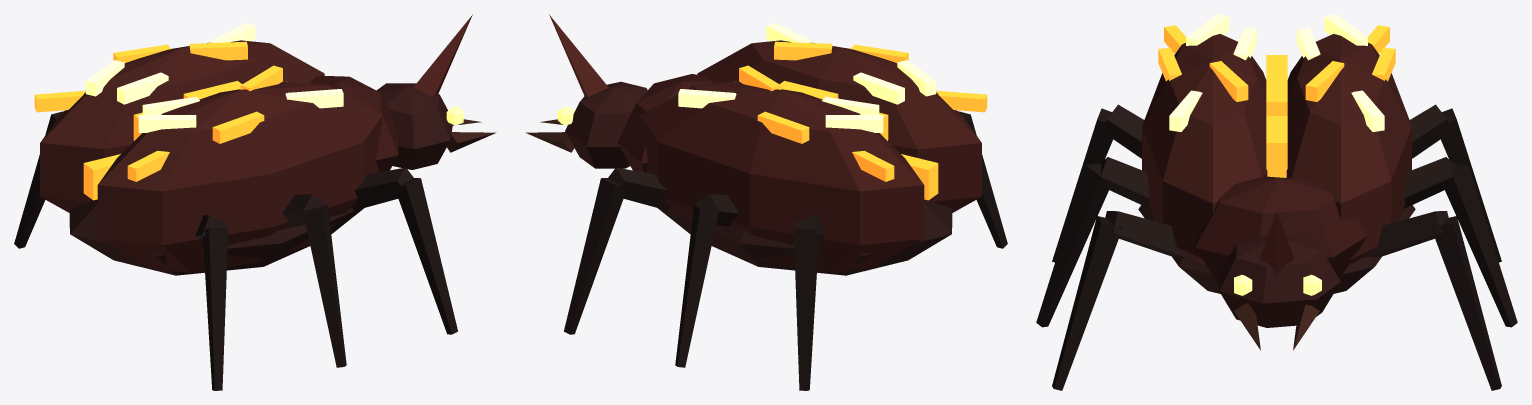
File: fire_beetle.glb
3 views of the same model, side by side, from view 1: azimuth 30°, elevation 25°; view 2: azimuth 150°, elevation 25°; view 3: azimuth 270°, elevation 25° (orthographic). The views are drawn at different scales.
Visible parts, largest first — view 1: body, head, sleg_r1, sleg_r2, sleg_r3, sleg_l3; view 2: body, head, sleg_l1, sleg_l2, sleg_l3, sleg_r3; view 3: body, head, sleg_l1, sleg_r1, sleg_l2, sleg_r2, sleg_l3, sleg_r3.
Part boxes in pixels (x1,y1,x2,y2): body: [34, 23, 398, 275]; head: [376, 14, 496, 169]; sleg_r1: [351, 167, 457, 334]; sleg_r2: [282, 194, 346, 367]; sleg_r3: [195, 215, 228, 390]; sleg_l3: [14, 111, 63, 248]; body: [617, 23, 987, 275]; head: [525, 14, 647, 168]; sleg_l1: [564, 167, 670, 334]; sleg_l2: [675, 194, 739, 367]; sleg_l3: [793, 215, 826, 390]; sleg_r3: [958, 111, 1007, 248]; body: [1138, 14, 1415, 293]; head: [1219, 212, 1340, 350]; sleg_l1: [1364, 211, 1501, 390]; sleg_r1: [1052, 211, 1189, 390]; sleg_l2: [1403, 157, 1517, 327]; sleg_r2: [1036, 157, 1150, 327]; sleg_l3: [1409, 104, 1501, 262]; sleg_r3: [1052, 104, 1144, 262].
Size of the model in its own units: 1.01 by 0.5263 by 0.9027.
